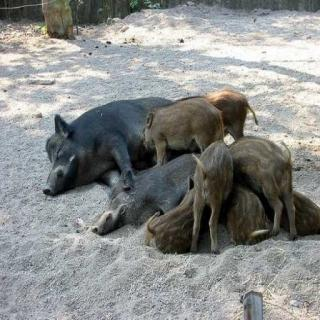Pig: (86, 161, 253, 247), (36, 94, 183, 185), (225, 130, 308, 232), (188, 132, 238, 261), (140, 104, 224, 158)
